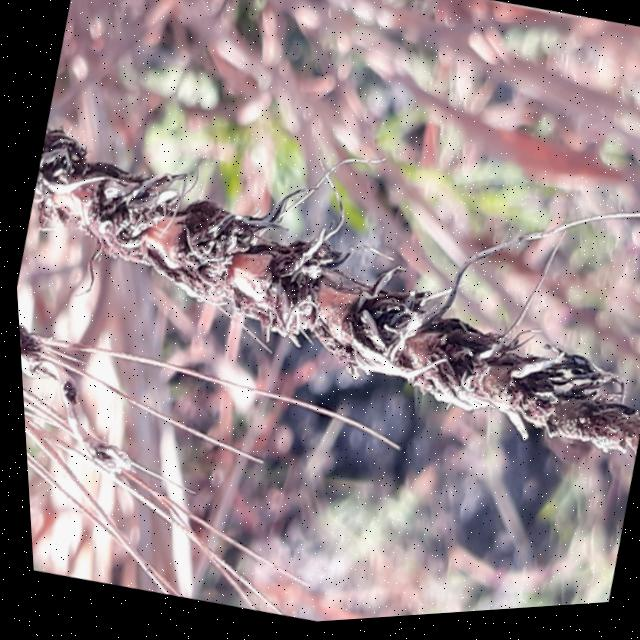loose_charred: (4, 55, 640, 510), (15, 297, 310, 590)
